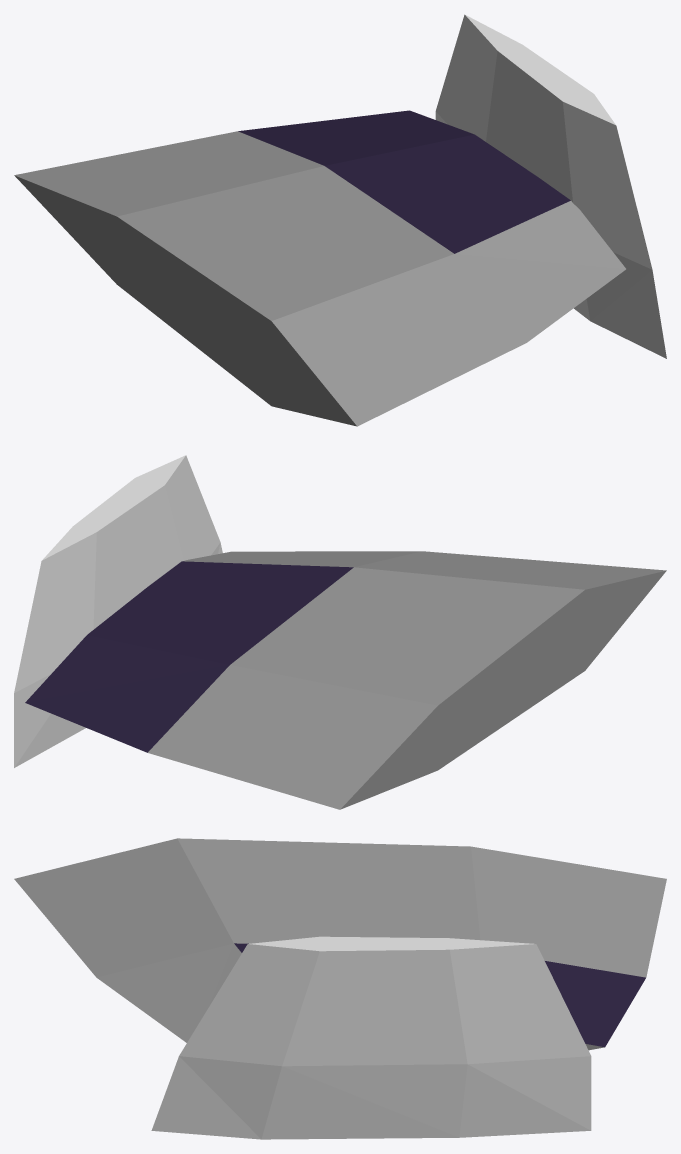
File: wing_stubby.obj
3 renders of one model, top to bottom at view 1: azimuth 30°, elevation 25°; view 2: azimuth 150°, elevation 25°; view 3: azimuth 270°, elevation 25°, orthographic. The views are drawn at different scales.
Size of the model in its own units: 0.645 by 0.3 by 0.95.
